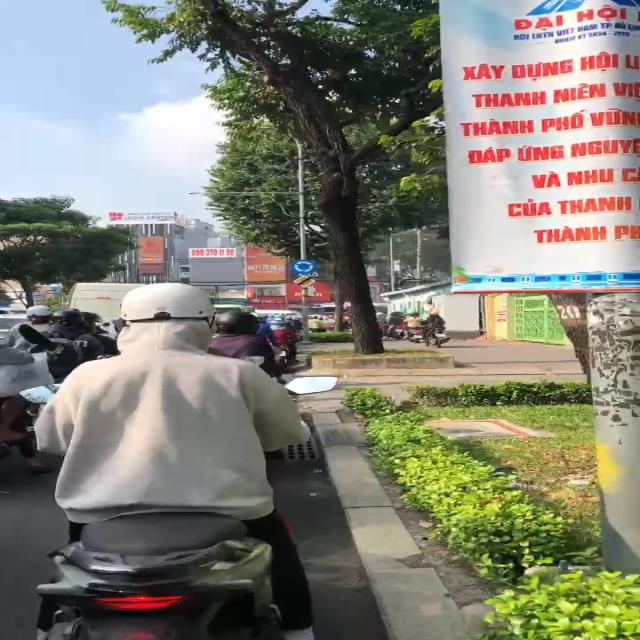Bien bao noi giao nhau chay theo vong xuyen: (289, 258, 319, 274)
